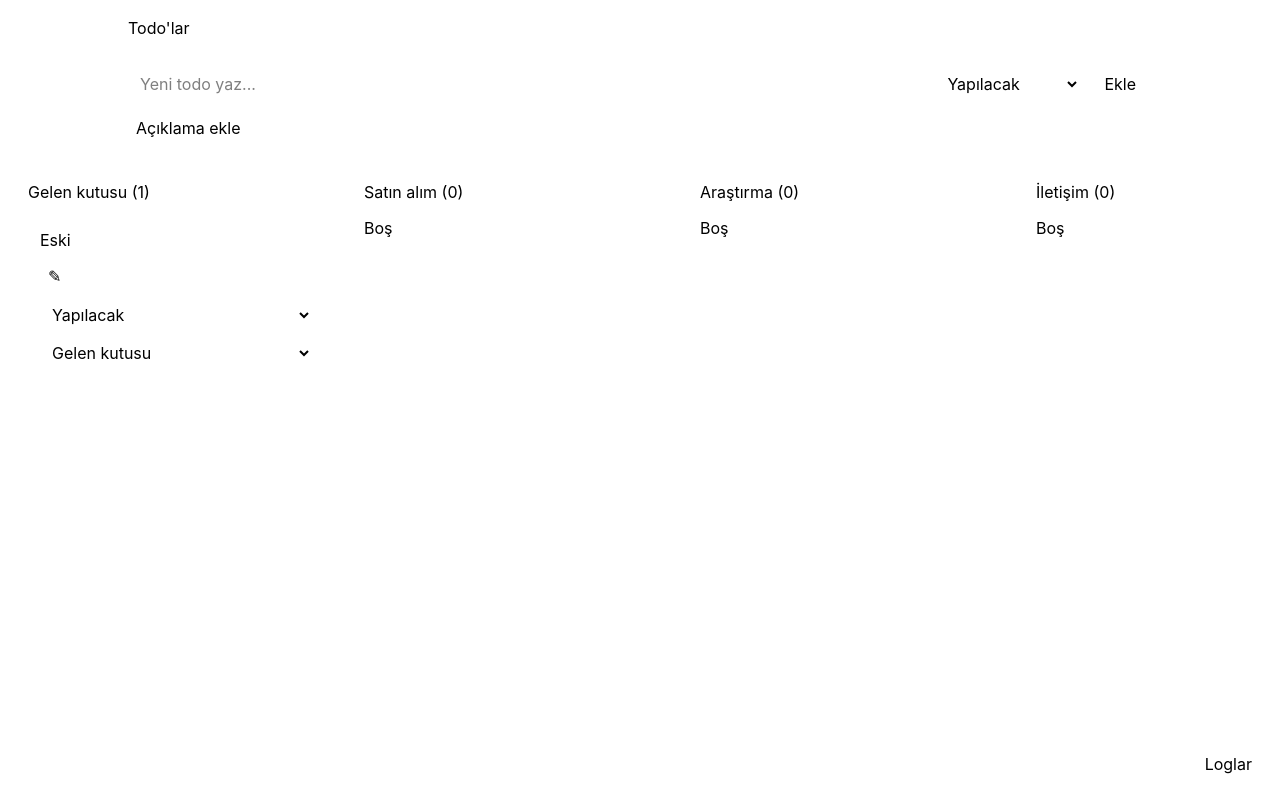
add form › adds a todo with description and status
This screenshot has width=1280, height=800.
Type "Süt al" into the field named "Todo başlığı" at (526, 84), box [128,64,923,104]
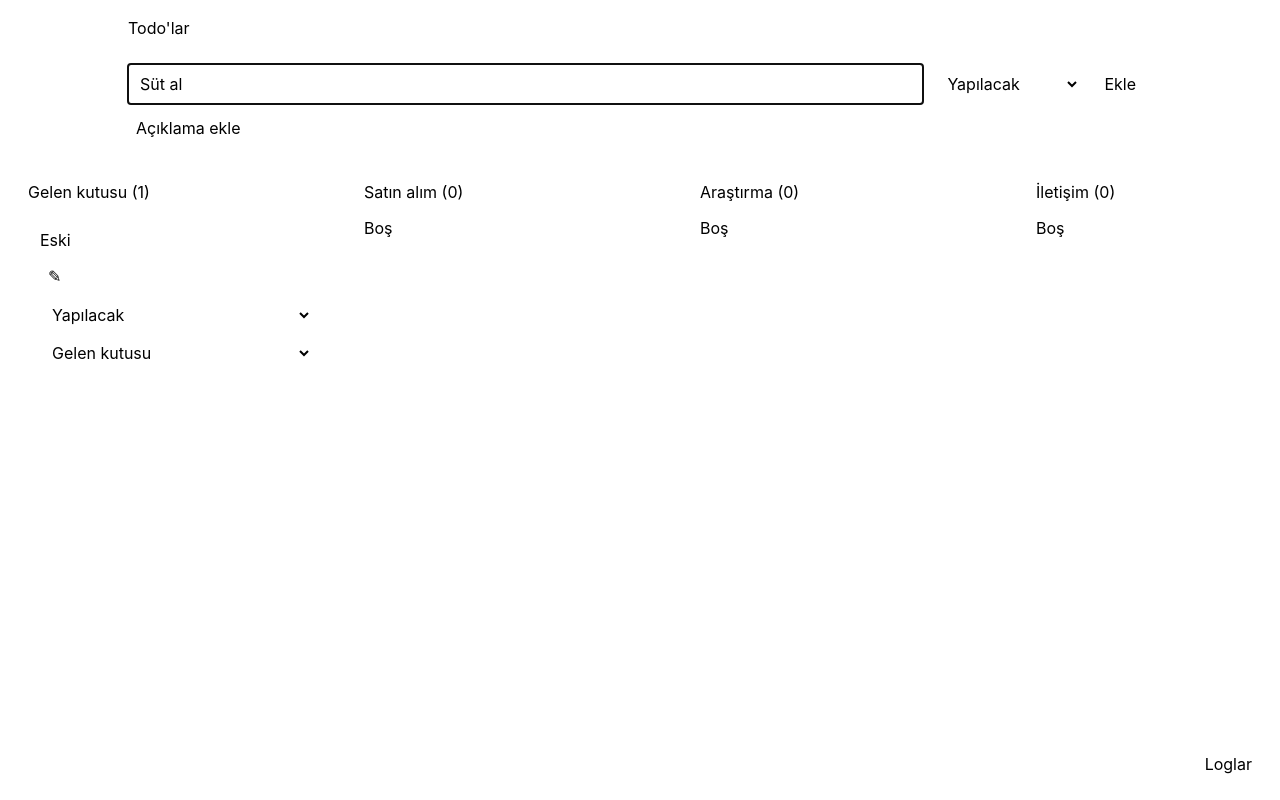
Click the button "Açıklama ekle" at (188, 128), box [128,112,248,144]
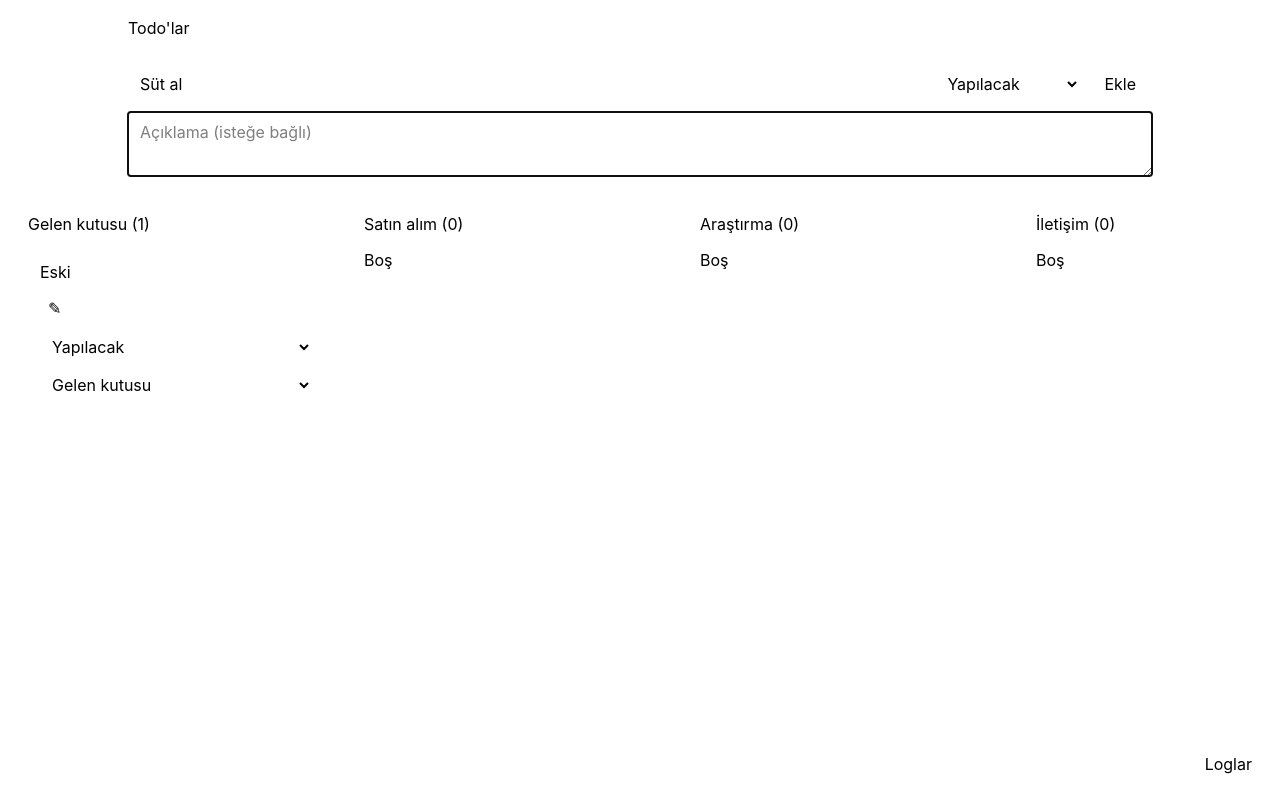
Type "2 litre" into the text box labelled "Açıklama" at (640, 144), box [128,112,1152,176]
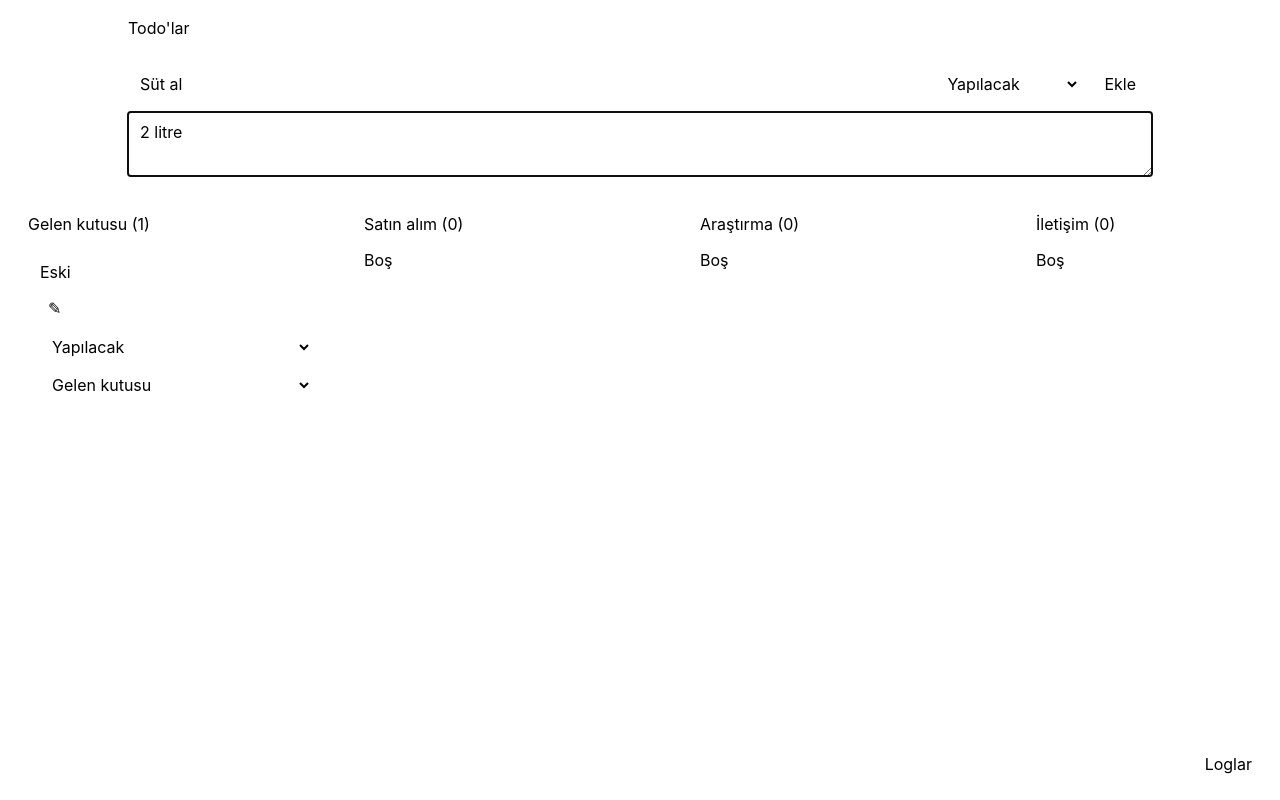
Select "Tamamlandı" in the dropdown named "Durum" at (1006, 84), box [931,64,1080,104]
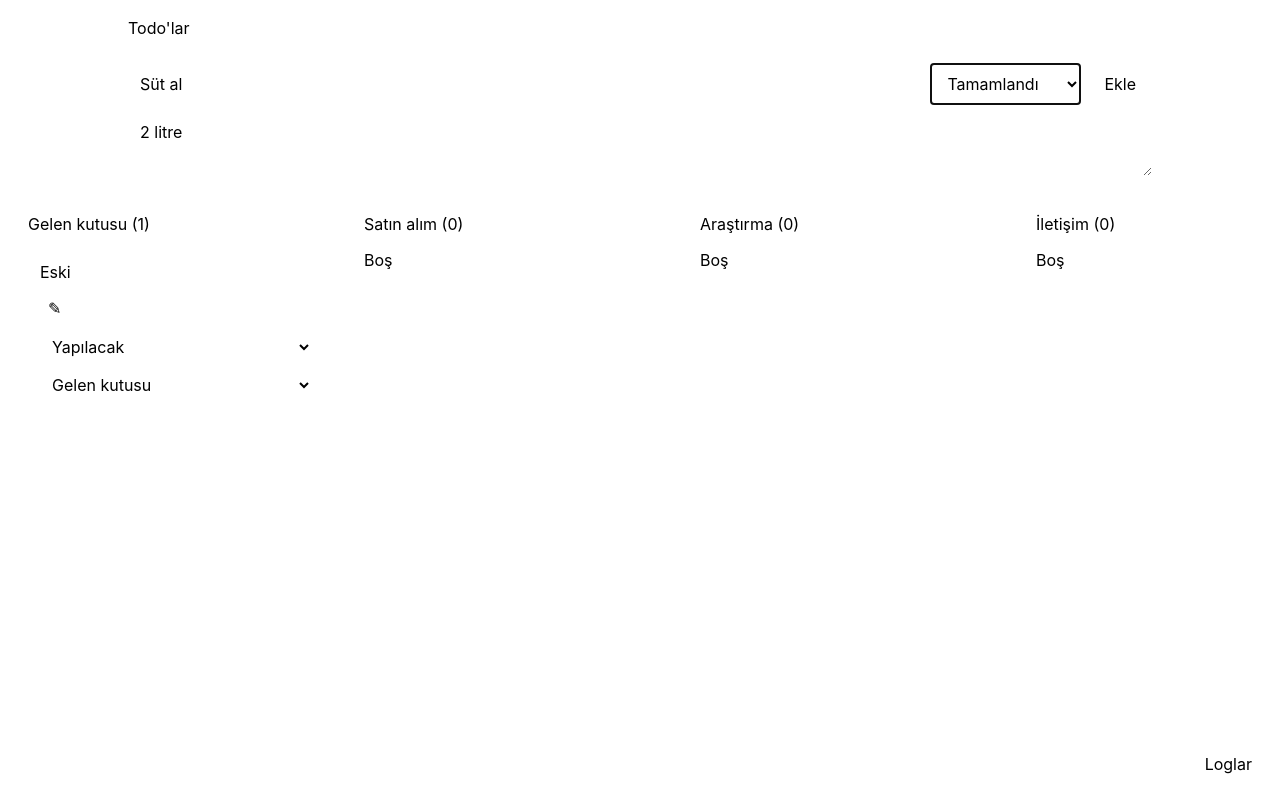
Click the button "Ekle" at (1120, 84), box [1088,64,1152,104]
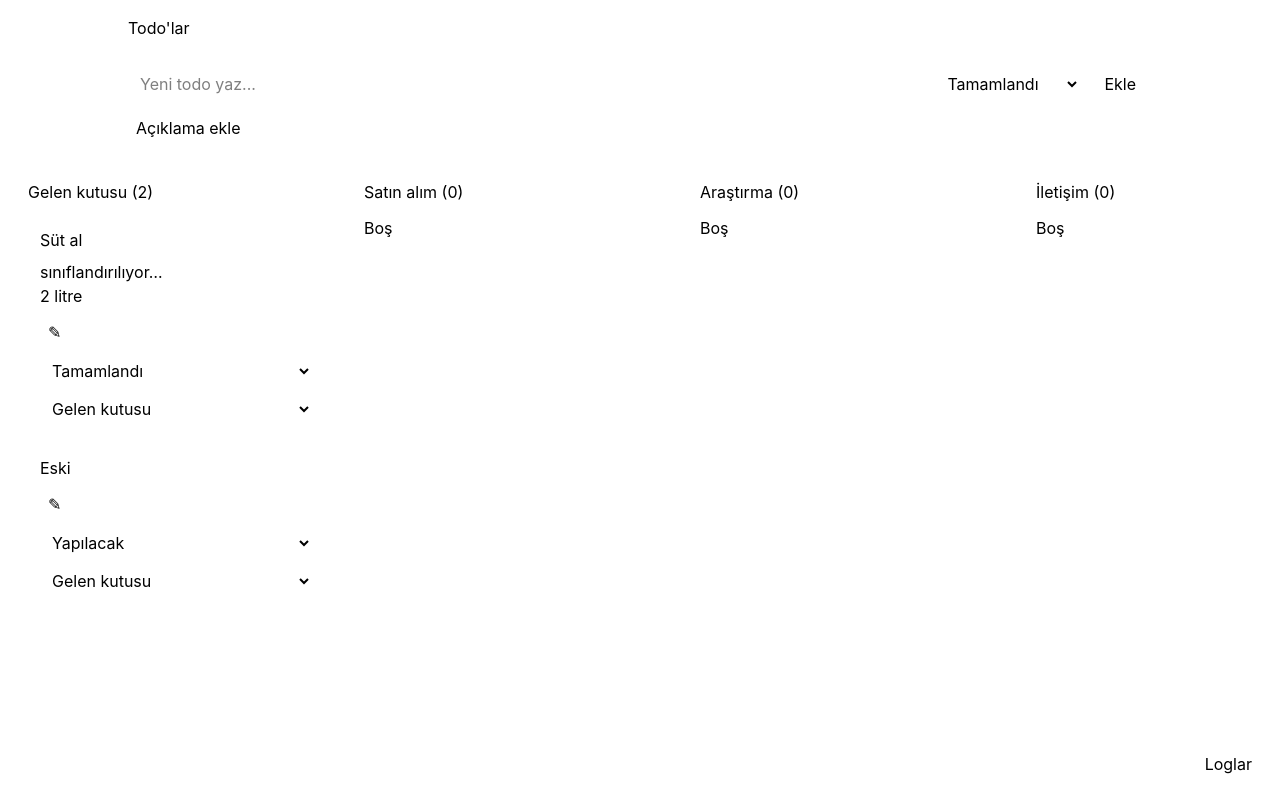
Now the heading "Gelen kutusu (2)" is shown, box [28,182,153,202]
Now the text "sınıflandırılıyor…" is shown, box [40,262,162,282]
